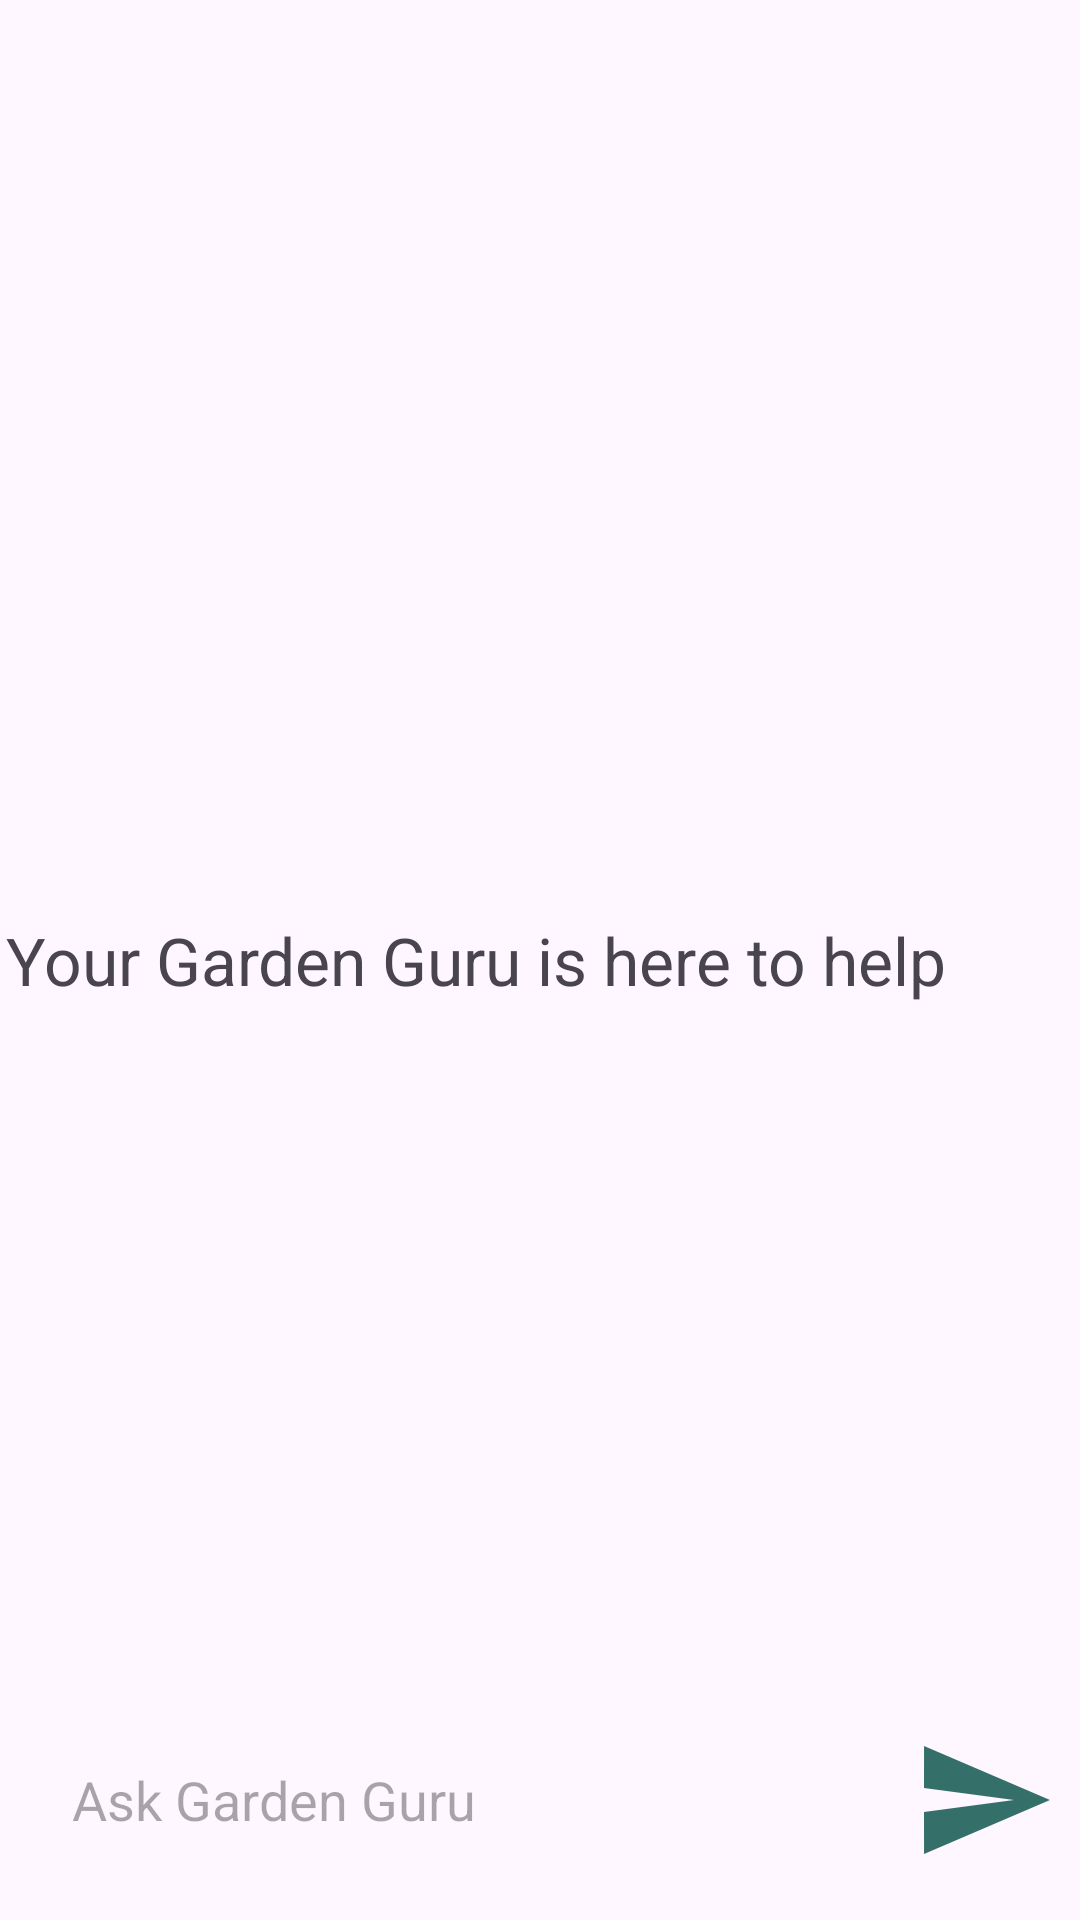

Locate icon controls on the screen. Image size 1080 × 1920, boxes as box(x1, y1, x2, y2).
send: box(924, 1746, 1050, 1854)
